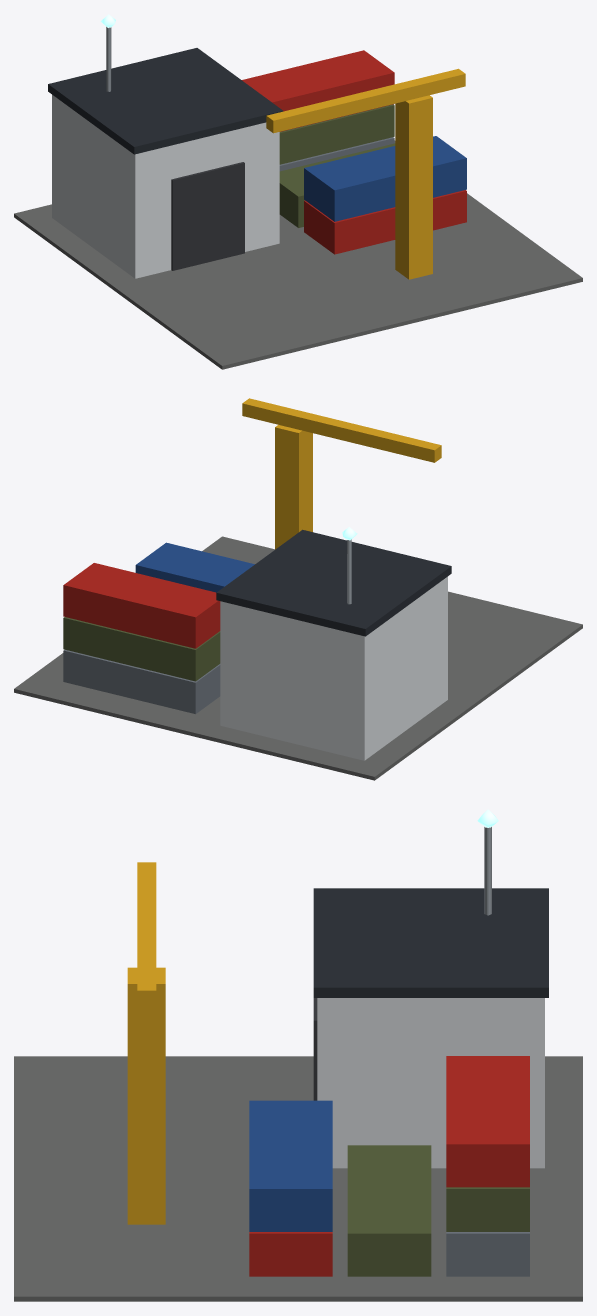
Rendered from bld_special_logistics_depot_a08_lod2.glb.
3 views of the same model, one above another, from view 1: azimuth 30°, elevation 25°; view 2: azimuth 150°, elevation 25°; view 3: azimuth 270°, elevation 25° (orthographic). The views are drawn at different scales.
Parts seen in each view (by area): view 1: body, crane; view 2: body, crane; view 3: body, crane.
Part boxes in pixels (x1,y1,x2,y2): body: (14,14,582,369); crane: (266,68,465,279); body: (14,527,582,780); crane: (242,398,441,549); body: (14,809,582,1301); crane: (127,862,165,1224).
Bounding box in the file's own units: 15 × 8.5 × 15.
